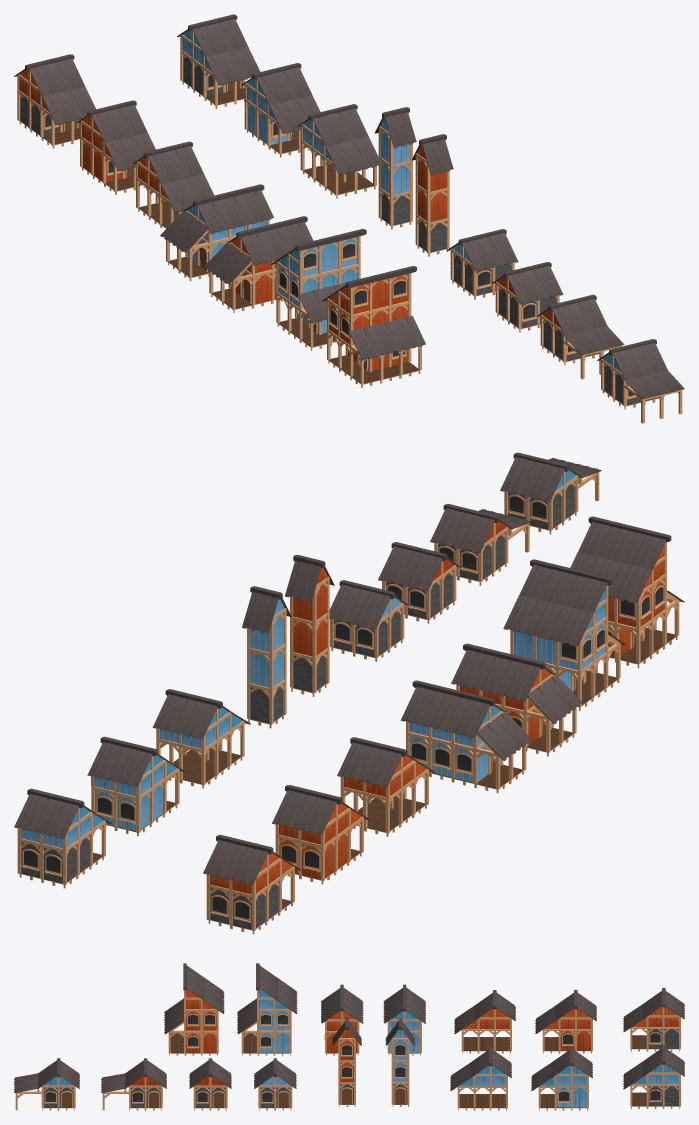
File: FishingLowPolyHouseModels.fbx
The picture shows the model from 3 angles, top to bottom: view 1: azimuth 30°, elevation 25°; view 2: azimuth 150°, elevation 25°; view 3: azimuth 270°, elevation 25°; orthographic projection. The views are drawn at different scales.
Parts seen in each view (by area): view 1: Cube.463, Cube.348, Cube.1134, Cube.230, Cube.860, Cube.564, Cube.854, Cube.845, Cube.1002, Cube.931, Cube.1168, Cube.615 (+4 smaller); view 2: Cube.348, Cube.230, Cube.463, Cube.1134, Cube.854, Cube.564, Cube.845, Cube.1002, Cube.931, Cube.860, Cube.669, Cube.688 (+4 smaller); view 3: Cube.348, Cube.463, Cube.564, Cube.845, Cube.854, Cube.1002, Cube.860, Cube.931, Cube.1168, Cube.615, Cube.1134, Cube.230 (+4 smaller).
Boxes of the visible parts, x1,y1,x2,y2 form: Cube.463: [322, 266, 425, 387]; Cube.348: [271, 229, 366, 350]; Cube.1134: [203, 216, 313, 312]; Cube.230: [160, 184, 273, 281]; Cube.860: [297, 104, 378, 198]; Cube.564: [177, 14, 260, 108]; Cube.854: [14, 54, 95, 148]; Cube.845: [241, 63, 320, 157]; Cube.1002: [76, 100, 155, 194]; Cube.931: [133, 141, 214, 228]; Cube.1168: [597, 339, 684, 423]; Cube.615: [537, 294, 624, 379]; Cube.348: [503, 559, 625, 710]; Cube.230: [400, 680, 531, 793]; Cube.463: [570, 516, 684, 668]; Cube.1134: [451, 643, 581, 756]; Cube.854: [203, 834, 301, 934]; Cube.564: [14, 788, 112, 888]; Cube.845: [87, 736, 185, 836]; Cube.1002: [272, 784, 370, 884]; Cube.931: [337, 737, 435, 836]; Cube.860: [152, 689, 250, 788]; Cube.669: [242, 586, 291, 728]; Cube.688: [285, 554, 334, 696]; Cube.348: [237, 963, 297, 1055]; Cube.463: [164, 963, 224, 1055]; Cube.564: [623, 1045, 684, 1108]; Cube.845: [531, 1047, 592, 1110]; Cube.854: [623, 988, 684, 1051]; Cube.1002: [535, 990, 596, 1053]; Cube.860: [450, 1047, 511, 1110]; Cube.931: [454, 990, 515, 1053]; Cube.1168: [14, 1058, 79, 1110]; Cube.615: [101, 1058, 166, 1110]; Cube.1134: [321, 984, 363, 1055]; Cube.230: [383, 984, 425, 1055].
Bounding box in the file's own units: 2507 × 1106 × 8284.
1 material, 1 textured.
